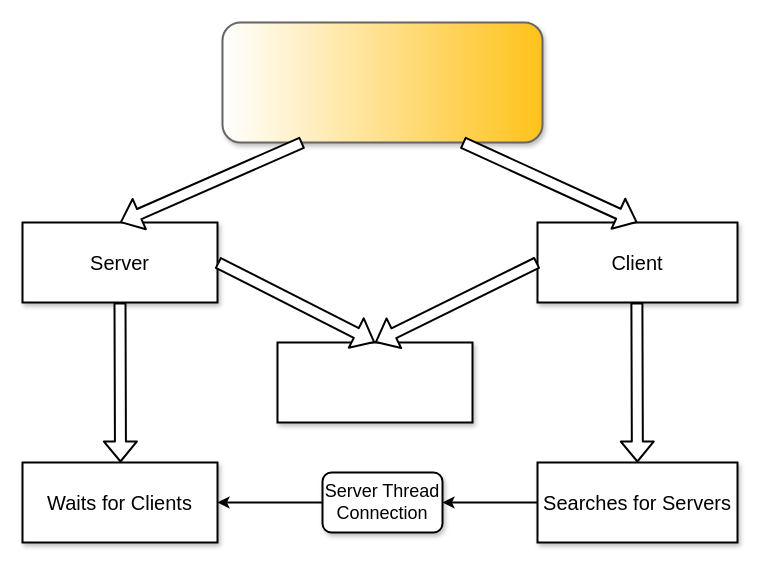
Some shapes in this 761 by 567 pixel diagram are drawn without their labels. The centre of each missing label's shape, as x and y in pixels:
"Java FX - Server Client Chat Applikation" goes at [383,83].
"Start / Close" goes at [375,383].
